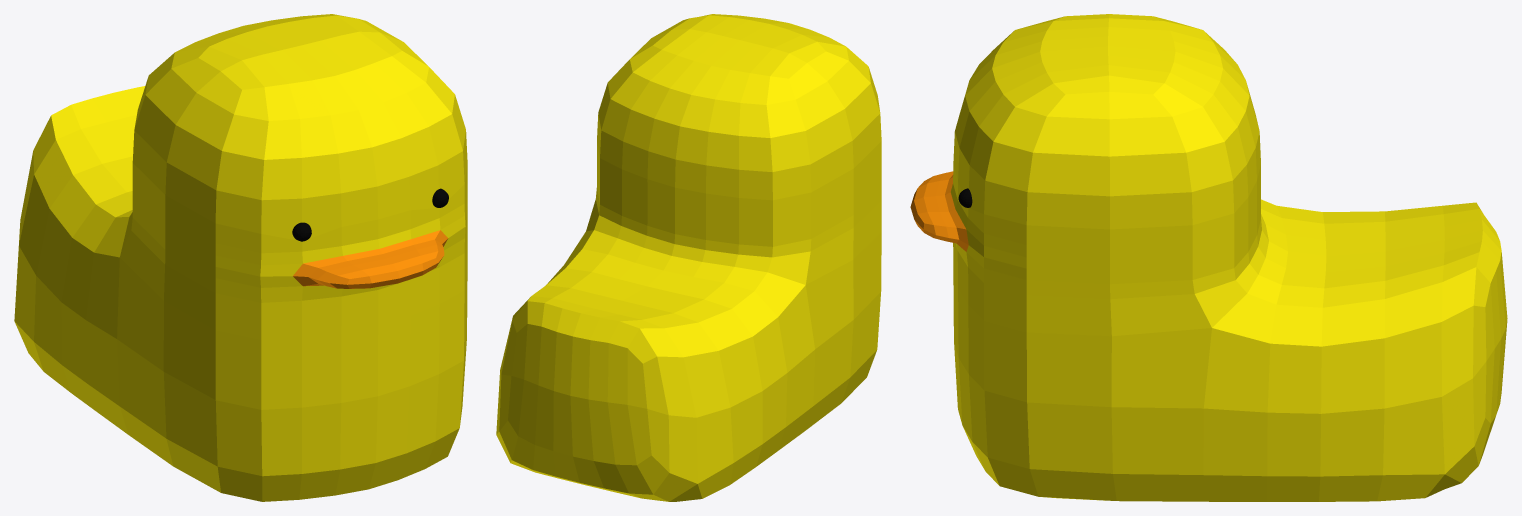
The model's file is Duck.glb.
The picture shows the model from 3 angles, left to right: view 1: azimuth 30°, elevation 25°; view 2: azimuth 150°, elevation 25°; view 3: azimuth 270°, elevation 25°; orthographic projection. The views are drawn at different scales.
Visible parts, largest first — view 1: Duck; view 2: Duck; view 3: Duck.
Boxes of the visible parts, x1=… form: Duck: x1=14, y1=14, x2=467, y2=501; Duck: x1=496, y1=14, x2=881, y2=501; Duck: x1=910, y1=14, x2=1507, y2=501.
Bounding box in the file's own units: 2.08 × 2.93 × 3.94.
